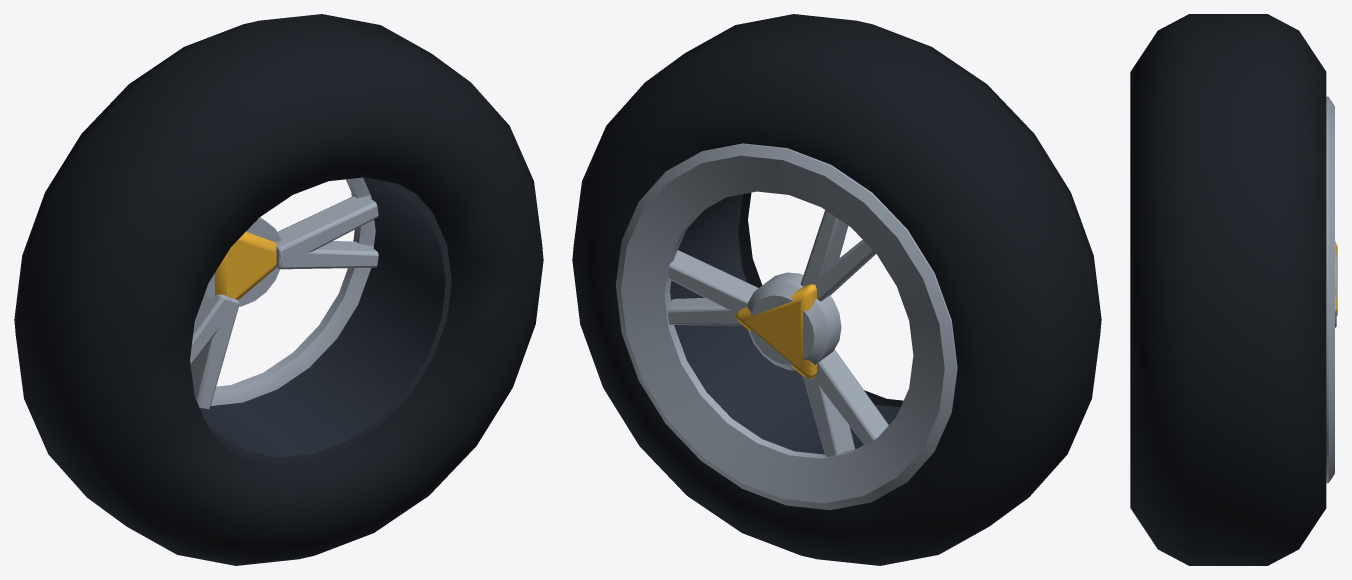
3 views of the same model, side by side, from view 1: azimuth 30°, elevation 25°; view 2: azimuth 150°, elevation 25°; view 3: azimuth 270°, elevation 25° (orthographic).
Parts seen in each view (by area): view 1: W12_Tire, W12_Rim_barrel, W12_Rim_outer_lip, W12_Split_triad_0_1, W12_Triangular_hub, W12_Split_triad_2_1, W12_Split_triad_0_-1, W12_Split_triad_2_-1, W12_Axle_cap; view 2: W12_Tire, W12_Rim_outer_lip, W12_Rim_barrel, W12_Axle_cap, W12_Triangular_hub, W12_Split_triad_2_-1, W12_Split_triad_0_1, W12_Split_triad_2_1, W12_Split_triad_1_-1, W12_Split_triad_0_-1, W12_Split_triad_1_1; view 3: W12_Tire, W12_Rim_outer_lip.
Part boxes in pixels (box(x1,y1,x2,y2)): W12_Tire: box(14, 14, 543, 565); W12_Rim_barrel: box(200, 177, 451, 463); W12_Rim_outer_lip: box(211, 177, 375, 405); W12_Split_triad_0_1: box(276, 195, 378, 263); W12_Triangular_hub: box(215, 232, 276, 299); W12_Split_triad_2_1: box(190, 299, 239, 409); W12_Split_triad_0_-1: box(276, 241, 378, 269); W12_Split_triad_2_-1: box(190, 294, 236, 365); W12_Axle_cap: box(204, 217, 281, 306); W12_Tire: box(572, 14, 1101, 565); W12_Rim_outer_lip: box(615, 143, 957, 509); W12_Rim_barrel: box(670, 194, 900, 454); W12_Axle_cap: box(747, 272, 841, 370); W12_Triangular_hub: box(735, 284, 816, 379); W12_Split_triad_2_-1: box(814, 349, 888, 445); W12_Split_triad_0_1: box(667, 250, 758, 311); W12_Split_triad_2_1: box(802, 376, 855, 456); W12_Split_triad_1_-1: box(800, 210, 848, 286); W12_Split_triad_0_-1: box(667, 298, 743, 325); W12_Split_triad_1_1: box(813, 239, 875, 301); W12_Tire: box(1130, 14, 1326, 565); W12_Rim_outer_lip: box(1326, 96, 1334, 483).
Bounding box in the file's own units: 3.25 × 3.25 × 1.22.
